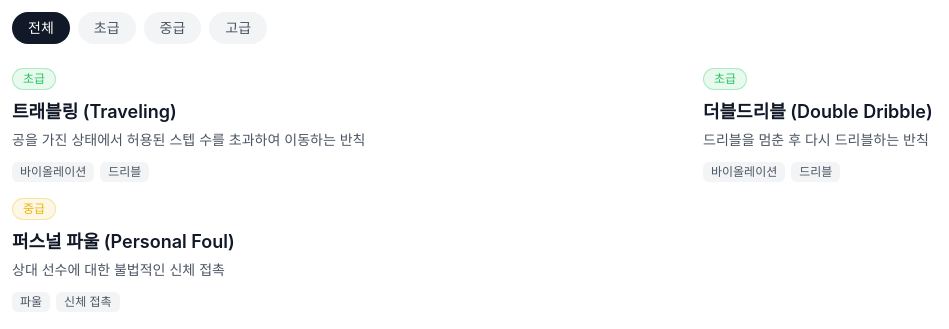
RuleListWithFilter › 중급 필터를 적용하면 중급만 표시한다
Step 1. Click the button "중급" → (172, 28), box [144,12,201,44]
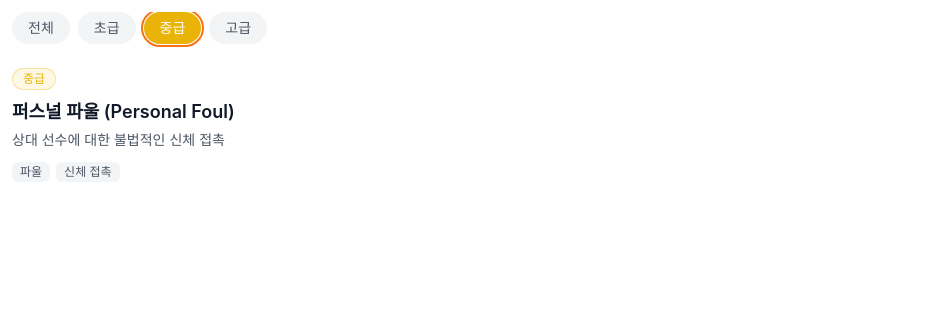
Check: the heading "퍼스널 파울 (Personal Foul)" is shown, box [12,101,235,122]
Check: the link "트래블링 (Traveling)" is gone
